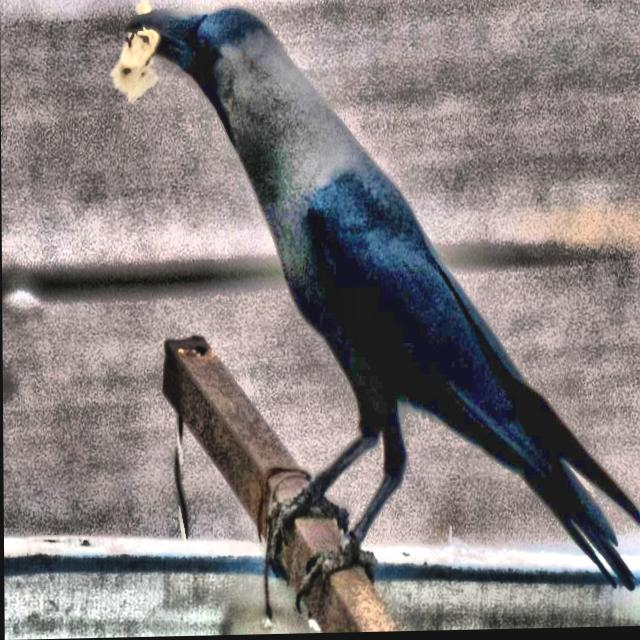crow: (111, 0, 640, 638)
